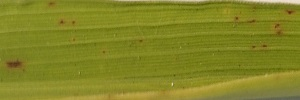RiceBrownSpot: (226, 3, 297, 51), (5, 54, 26, 74)
